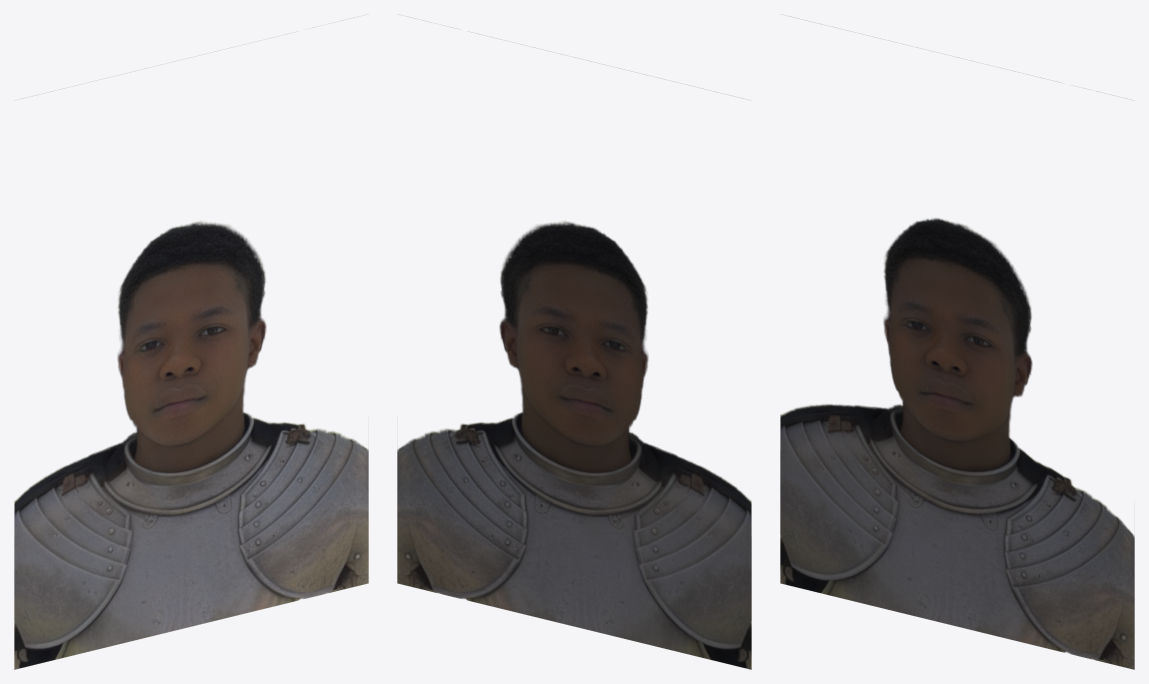
File: munyaradzi.glb
The picture shows the model from 3 angles, left to right: view 1: azimuth 30°, elevation 25°; view 2: azimuth 150°, elevation 25°; view 3: azimuth 330°, elevation 25°; orthographic projection.
Parts seen in each view (by area): view 1: BeebleFootage.001; view 2: BeebleFootage.001; view 3: BeebleFootage.001.
Part boxes in pixels (x1=…): BeebleFootage.001: x1=14, y1=16, x2=368, y2=669; BeebleFootage.001: x1=397, y1=16, x2=751, y2=669; BeebleFootage.001: x1=780, y1=16, x2=1134, y2=669.
Bounding box in the file's own units: 1.3 × 2 × 6.74e-07.
Materials: 1 (1 with a texture image).
